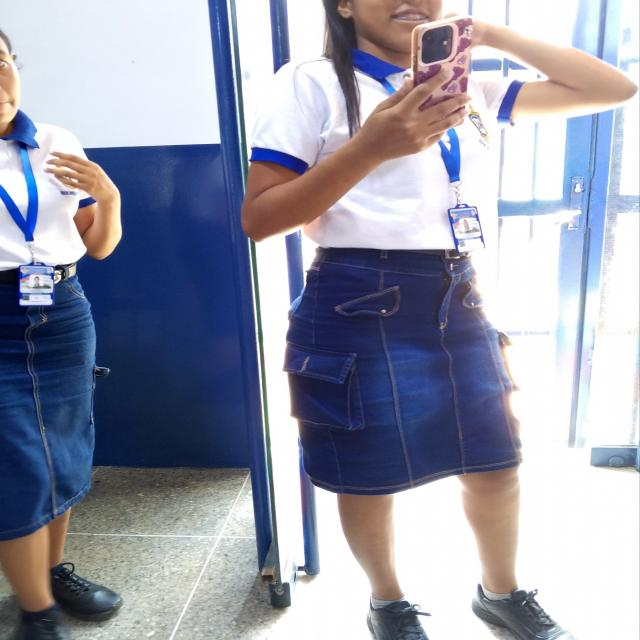carnet: (449, 206, 485, 252), (18, 264, 54, 308)
uniforme_superior: (248, 46, 525, 249), (0, 108, 97, 270)
